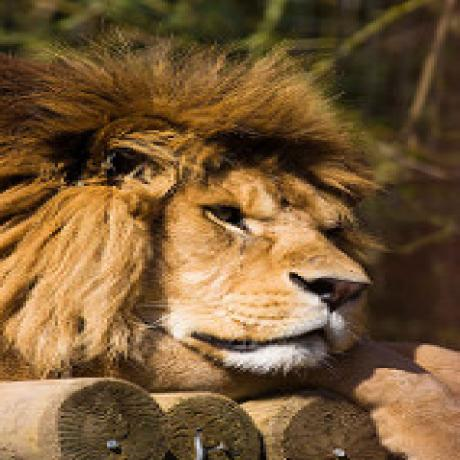Lion: (0, 28, 422, 385)
